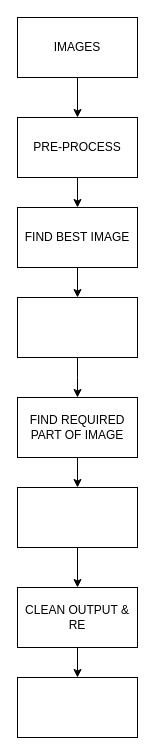
This 155x755 diagram has some shape labels left out. Here are the shapes that lost their labels. From the top down, the centre of each, then its label:
point 77,327: DETECT ORIENTATION
point 77,517: OCR
point 77,707: SAVE CSV
